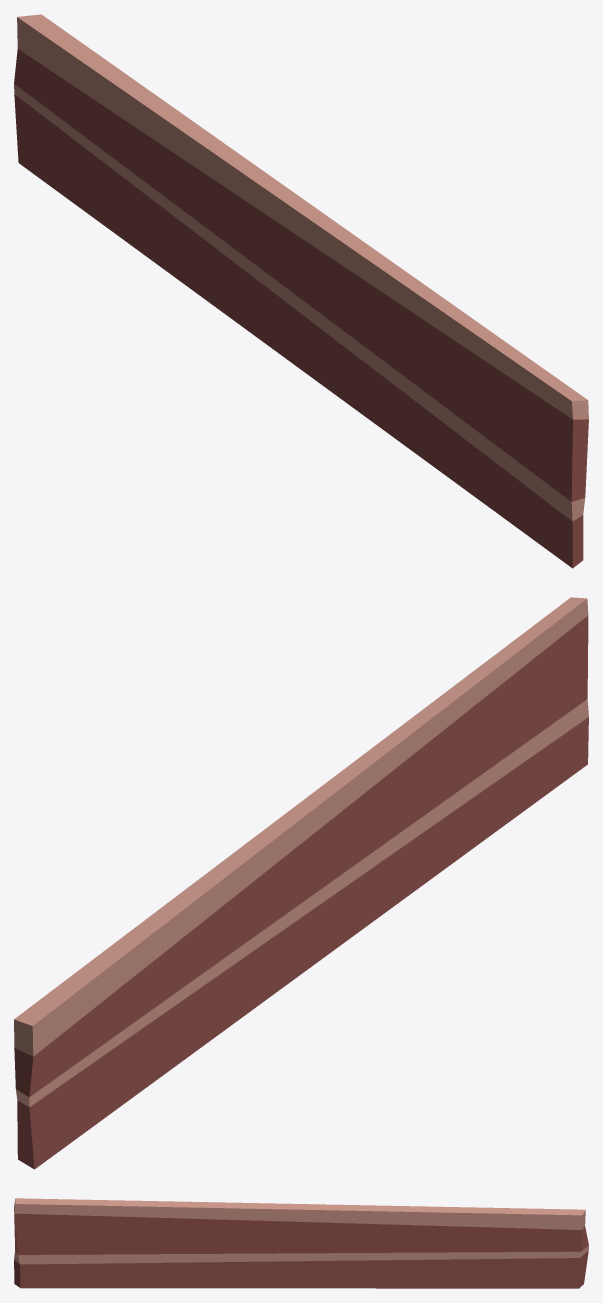
Rendered from baconStrip02.fbx.
The picture shows the model from 3 angles, top to bottom: view 1: azimuth 30°, elevation 25°; view 2: azimuth 150°, elevation 25°; view 3: azimuth 270°, elevation 25°; orthographic projection. The views are drawn at different scales.
Parts seen in each view (by area): view 1: baconStrip02; view 2: baconStrip02; view 3: baconStrip02.
Part boxes in pixels (bbox=[...]): baconStrip02: bbox=[14, 14, 588, 568]; baconStrip02: bbox=[14, 597, 588, 1169]; baconStrip02: bbox=[14, 1198, 588, 1288].
Bounding box in the file's own units: 0.7001 × 5.01 × 30.46.
Materials: 1 (1 with a texture image).
